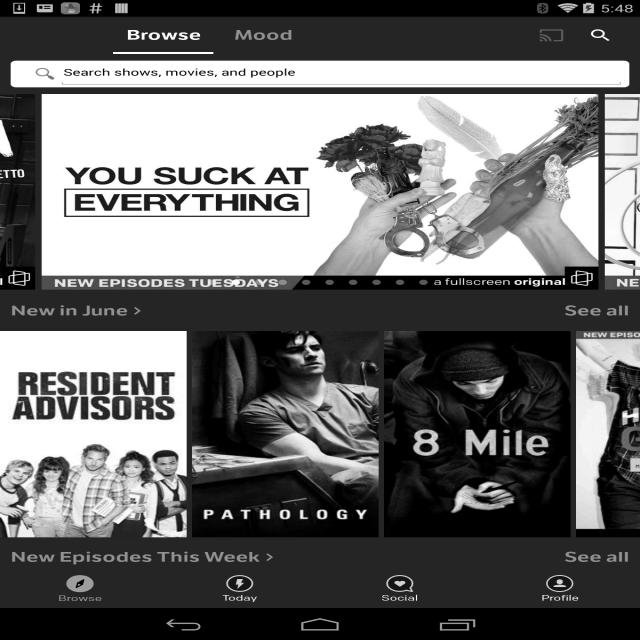EditText: (64, 60, 619, 84)
ImageView: (41, 94, 598, 290), (0, 331, 187, 537), (192, 331, 379, 537), (384, 331, 571, 537), (576, 331, 640, 537), (0, 94, 35, 290), (605, 94, 640, 290), (577, 21, 624, 50), (28, 67, 62, 81), (66, 575, 94, 592), (226, 575, 253, 592), (386, 575, 413, 592), (546, 575, 573, 592)
TextView: (11, 548, 273, 566), (543, 291, 640, 331), (543, 538, 640, 578), (10, 302, 140, 320), (126, 26, 200, 44), (234, 26, 293, 44), (58, 593, 102, 603), (541, 592, 579, 602), (381, 592, 418, 602), (222, 592, 257, 602)
